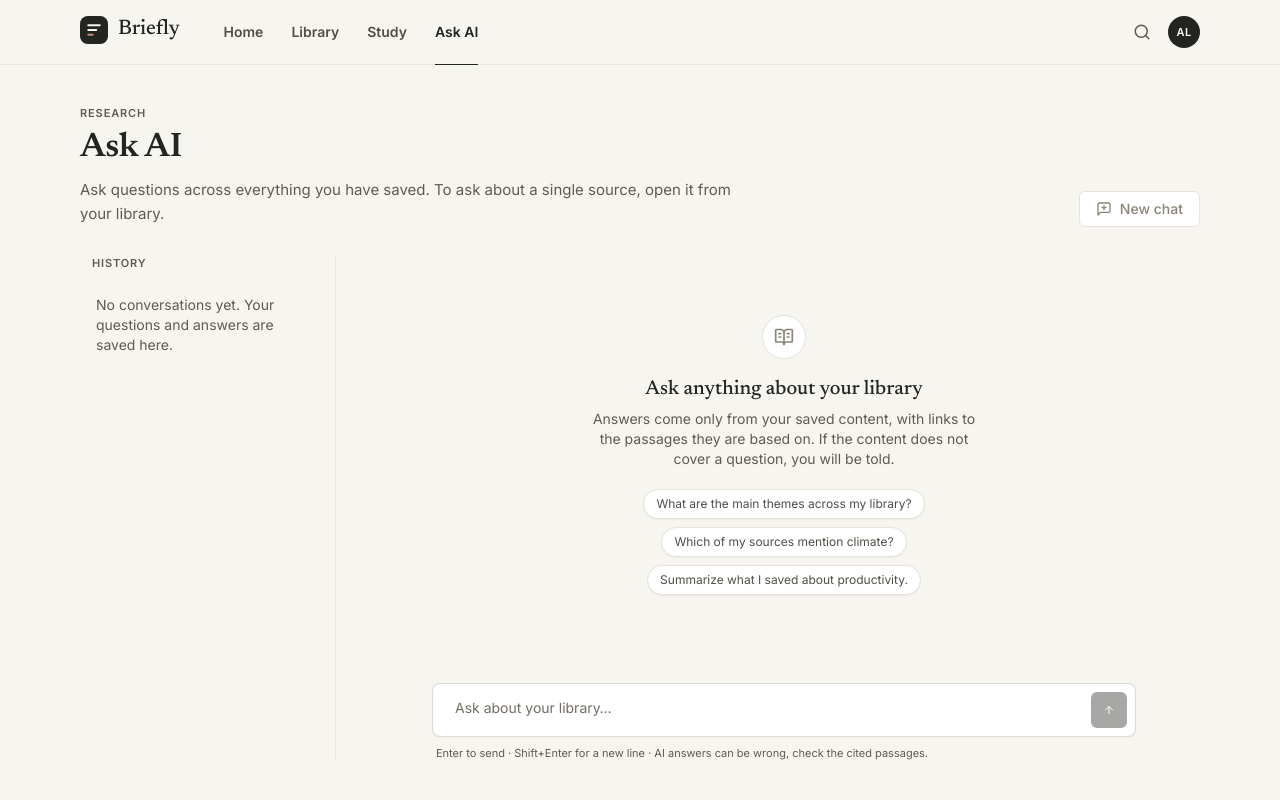
Test: Ask AI › asking creates a library conversation and shows the cited answer
Step 1. Type "What do trees do?" into the text box named "Your question" → [765, 710], box [447, 692, 1083, 728]
Then press Enter
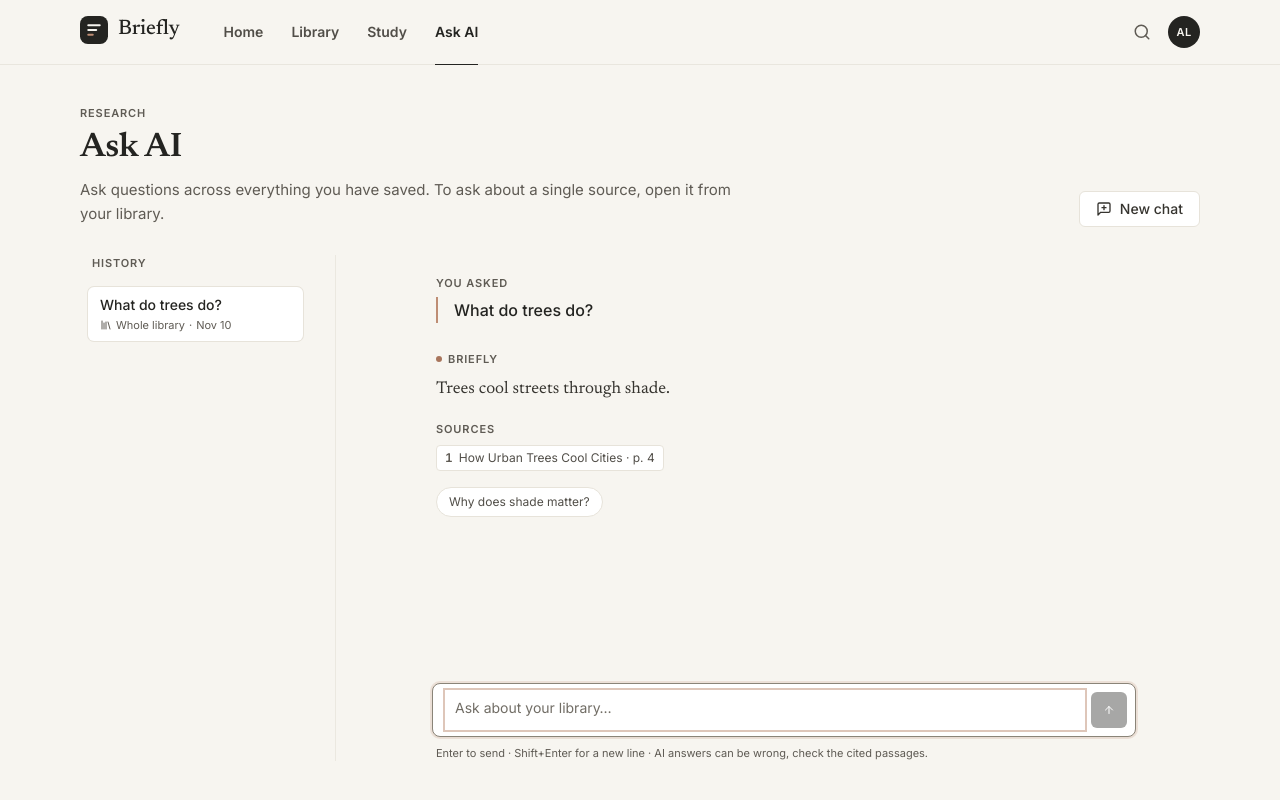
Now the text "Trees cool streets through shade." is shown, box [436, 381, 670, 398]
Now the button "Why does shade matter?" is shown, box [436, 487, 603, 517]
Now the text "What do trees do?" below "History" is shown, box [100, 296, 222, 313]
